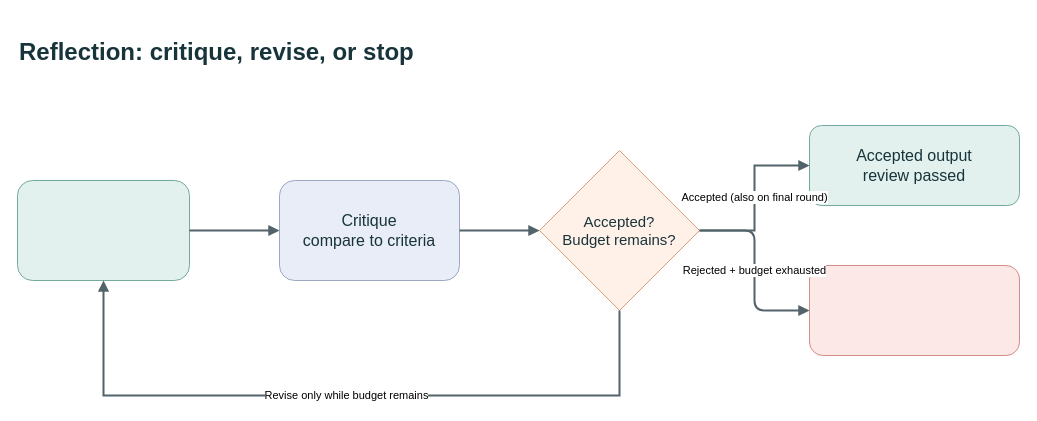
This 1037x421 diagram has some shape labels left out. The shapes that lost their labels are listed below. From the top down, each one's centre as x and y in pixels, then its label:
At (x=103, y=230): "Draft / revision use critique on retry".
At (x=914, y=310): "Not accepted return reviewed draft + gaps".
